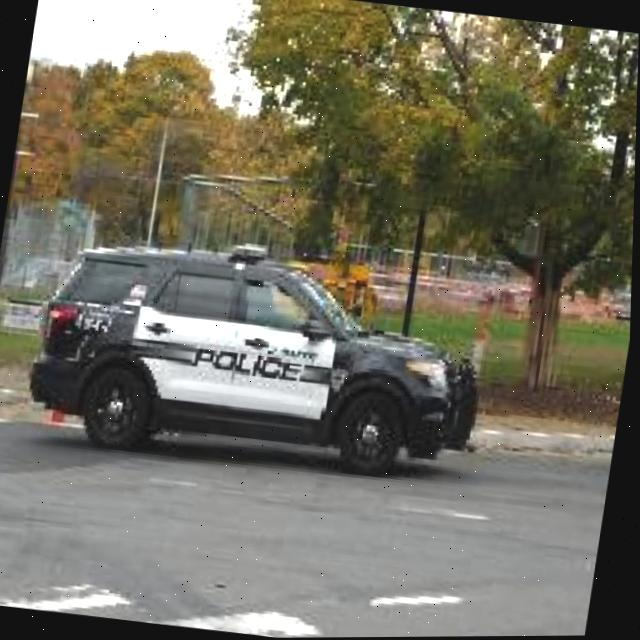emergency: (13, 213, 503, 493)
